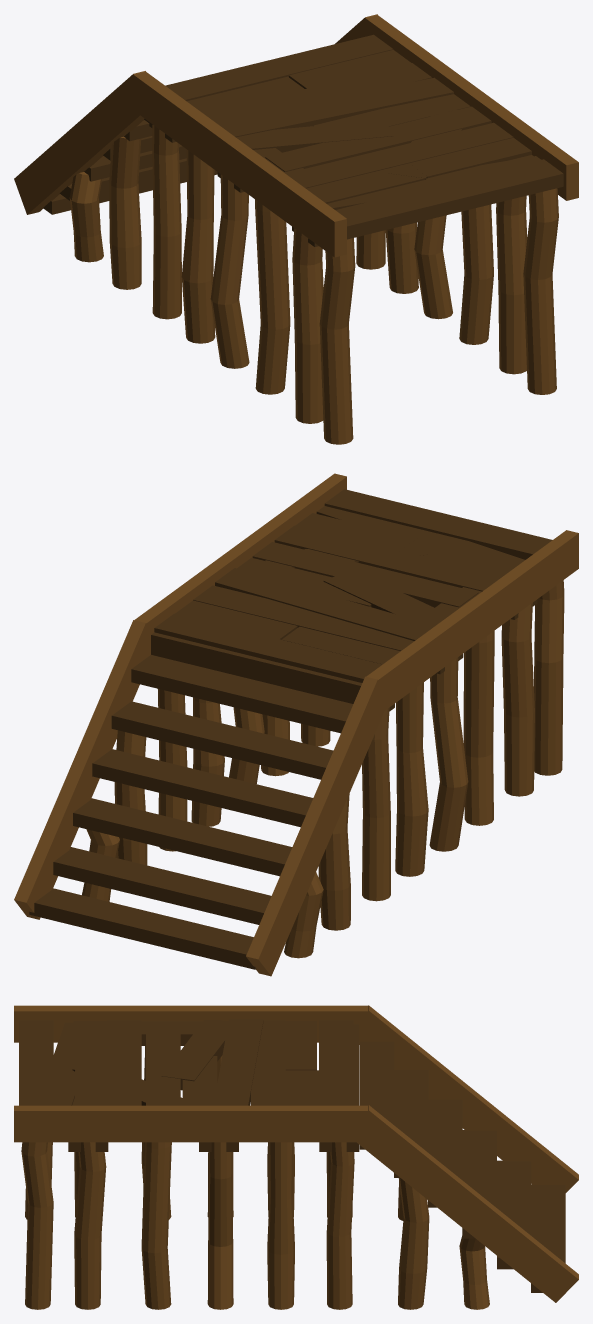
The model's file is DockSteps.fbx.
3 views of the same model, one above another, from view 1: azimuth 30°, elevation 25°; view 2: azimuth 150°, elevation 25°; view 3: azimuth 270°, elevation 25° (orthographic). The views are drawn at different scales.
Visible parts, largest first — view 1: Dock; view 2: Dock; view 3: Dock.
Part boxes in pixels (box(x1,y1,x2,y2)): Dock: box(14, 14, 578, 444); Dock: box(14, 473, 578, 976); Dock: box(14, 1005, 578, 1309).
Bounding box in the file's own units: 413 × 367 × 920.
